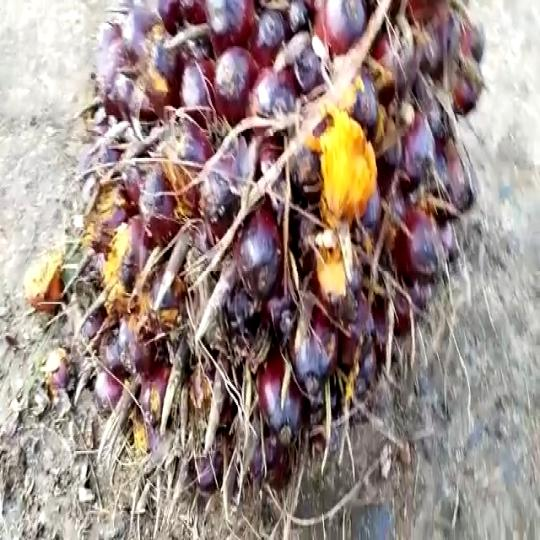kurang masak: (61, 0, 488, 445)
